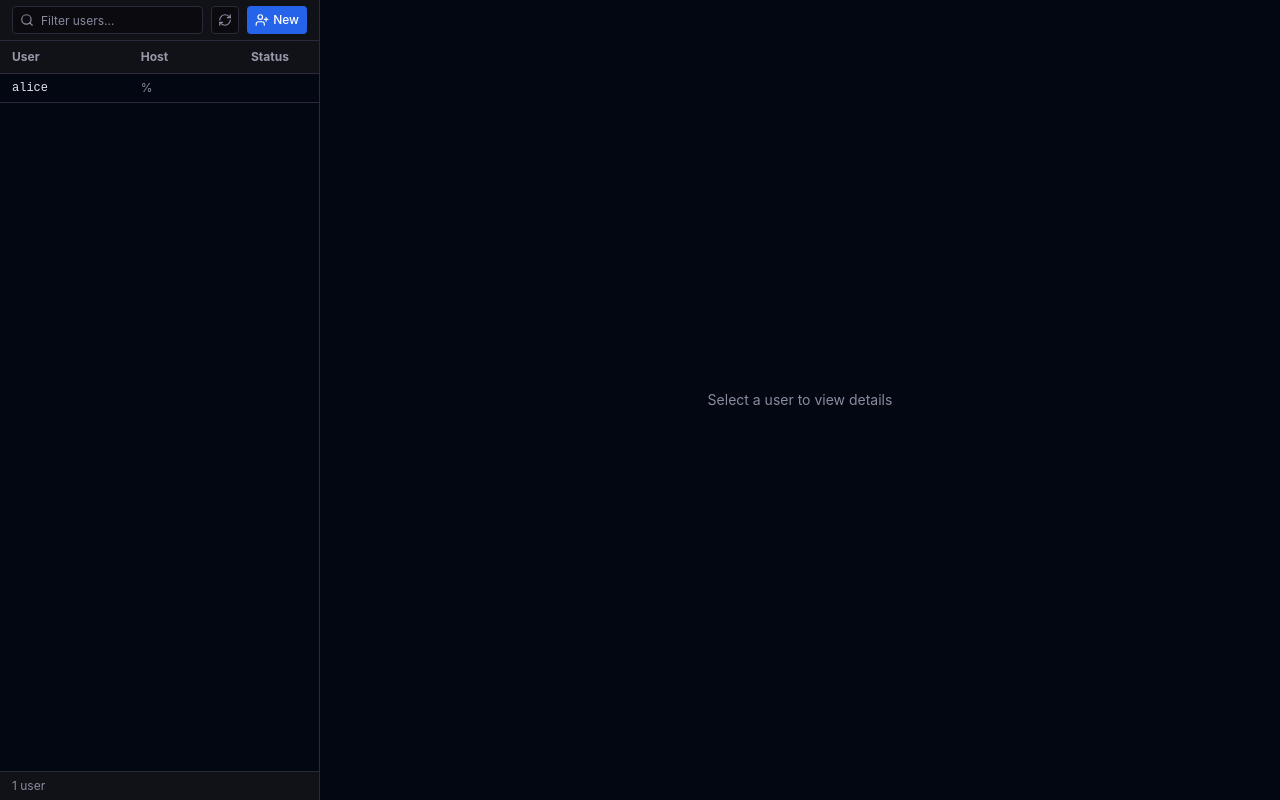
partial privilege failure (#439) › privilege changes are shown before they run › shows the statements instead of running them
What coordinates should you click on to do the following:
click the text "alice"
I would click on:
 (30, 88)
Its box is [0,74,129,102].
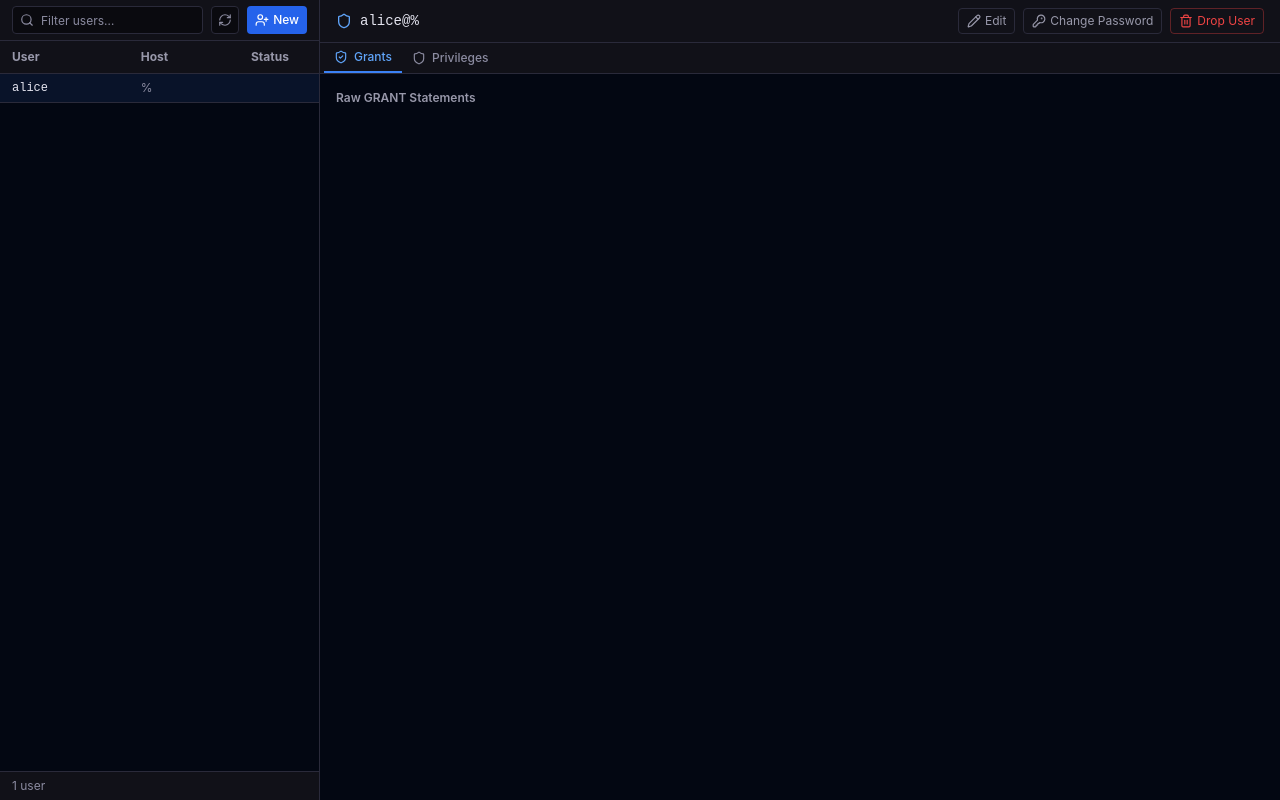
What coordinates should you click on to do the following:
click the button "Privileges"
I would click on:
 (450, 58)
Its box is [402,43,498,73].
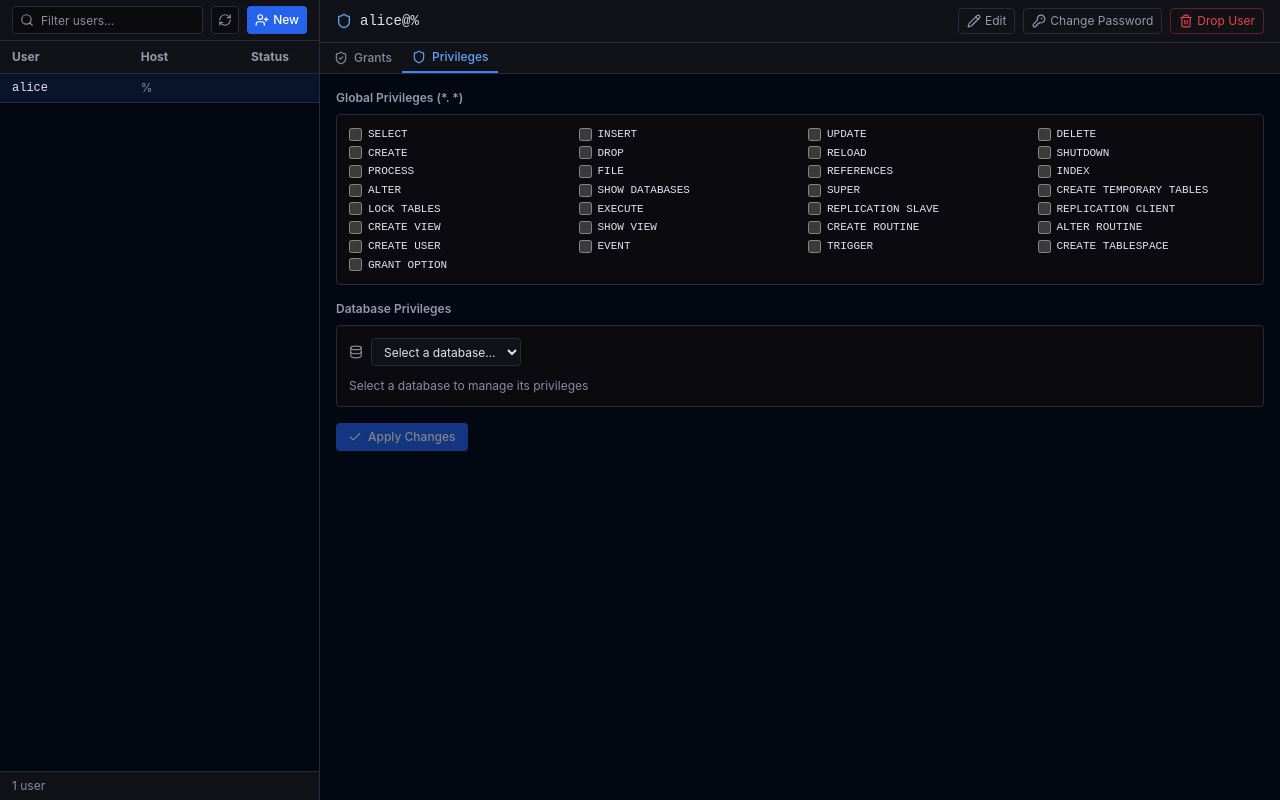
What coordinates should you click on to do the following:
click the checkbox labelled "SELECT"
I would click on:
 (356, 134)
Its box is [349,128,362,141].
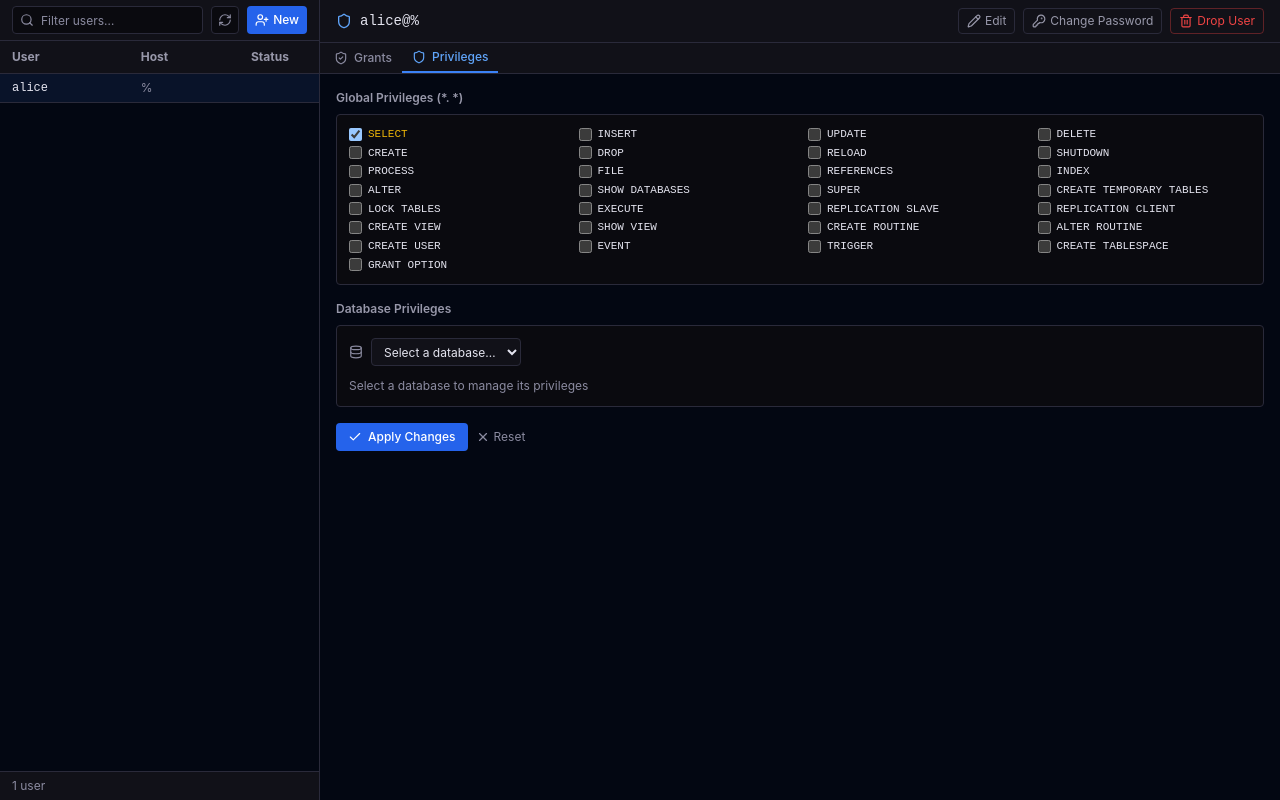
What coordinates should you click on to do the following:
click the button "Apply Changes"
I would click on:
 (402, 437)
Its box is [336,423,468,451].
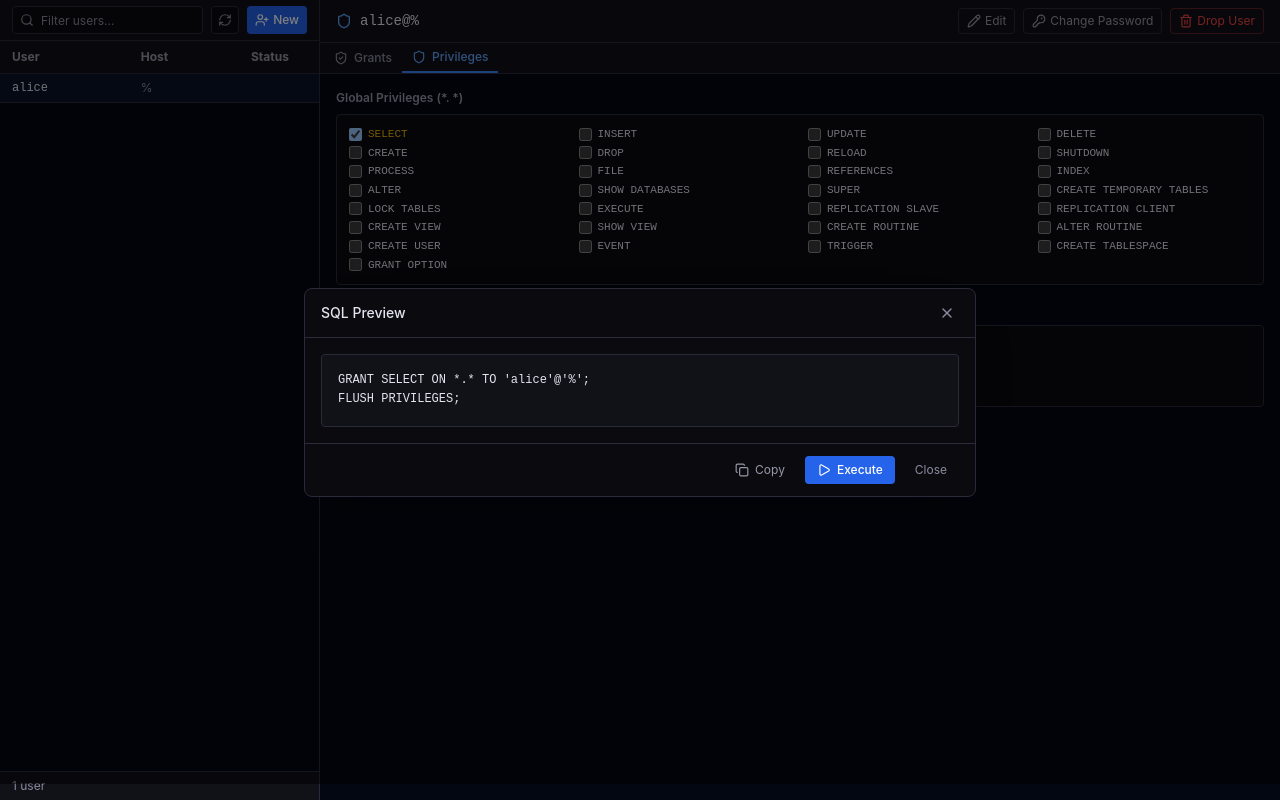
Result: the heading "SQL Preview" is shown at [321,302,406,322]
